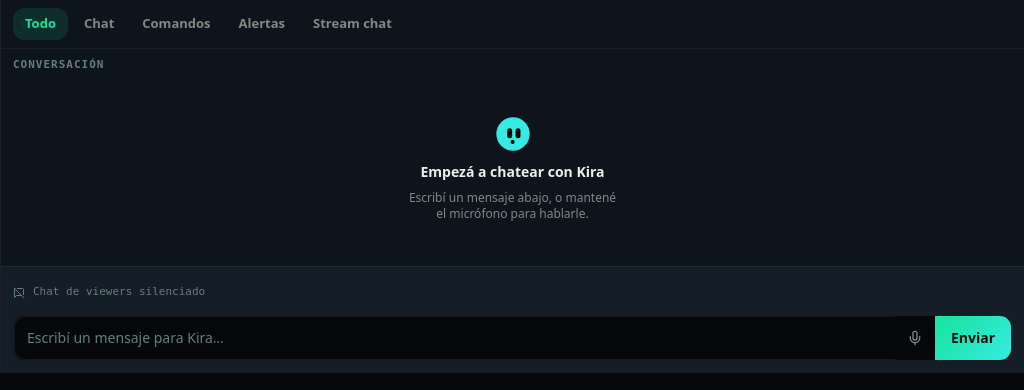
Test: ConversationPanel — empty state + viewers-muted banner (P3/§3b) › keeps 'Sin turnos en este filtro.' as the Alertas empty case, not the invitation
Click the tab "Alertas": x=262, y=24 [226, 8, 297, 40]
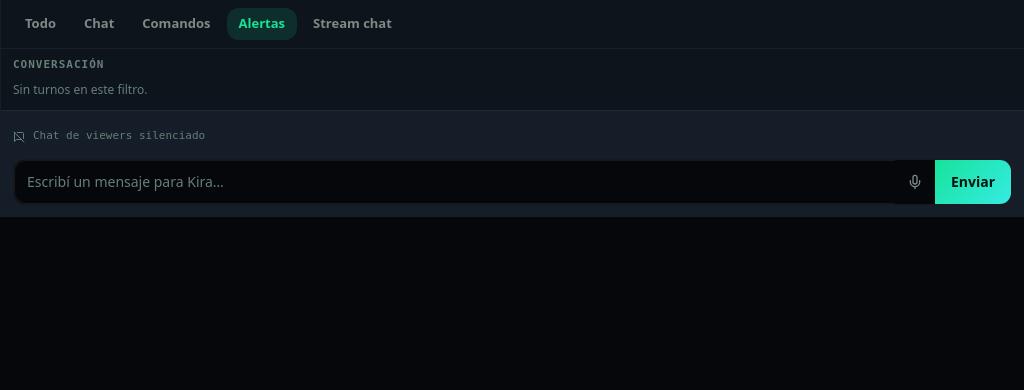
Now the text "Sin turnos en este filtro." is shown, box [13, 82, 147, 98]
Now the text "Empezá a chatear con Kira" is gone
